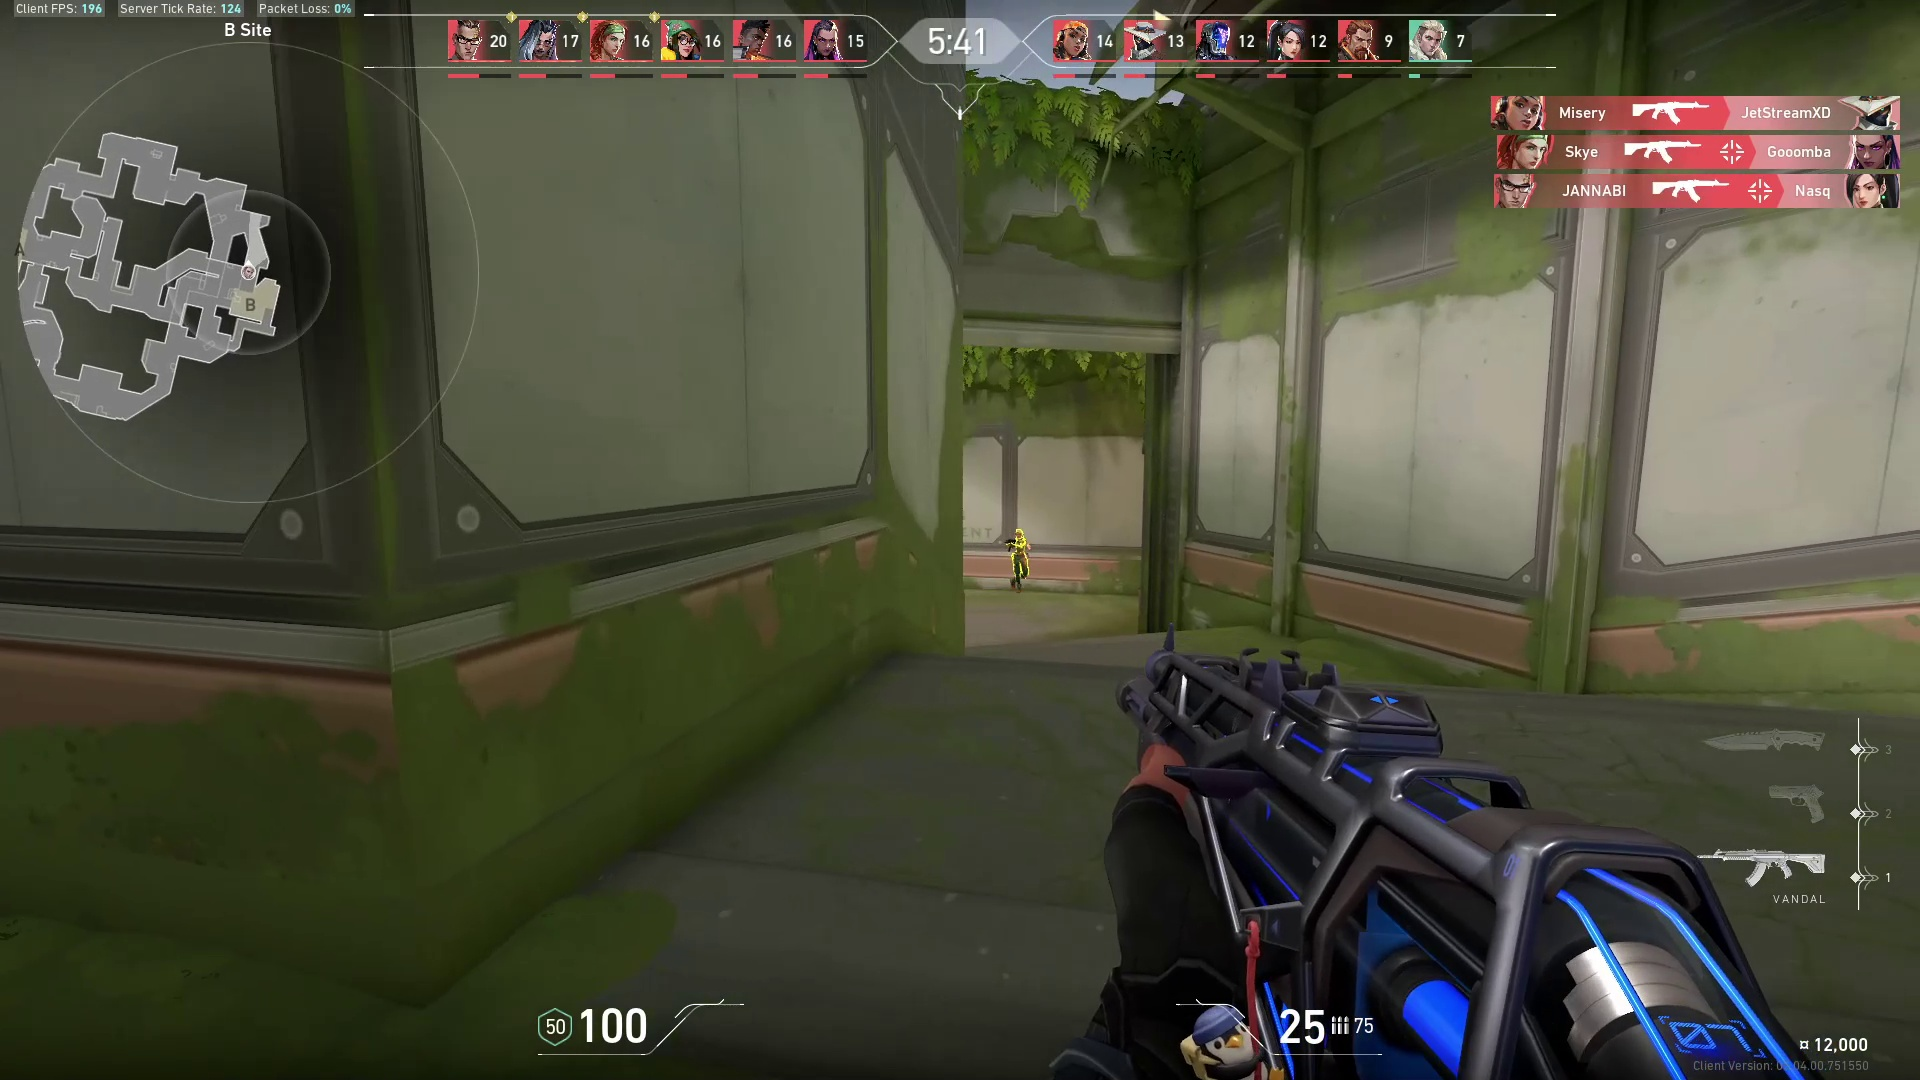1: (1004, 538, 1030, 592)
["enemy_head", "enemy_body", "enemy_gen", "dog"]: (1011, 527, 1025, 539)
